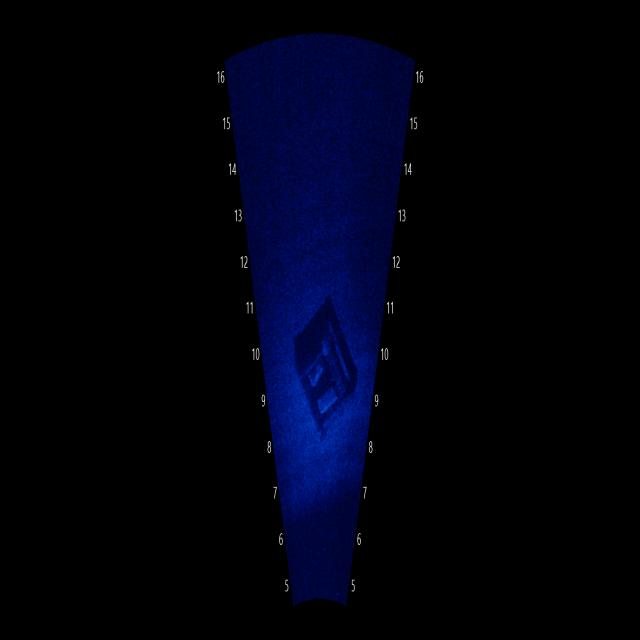square: (287, 294, 368, 452)
